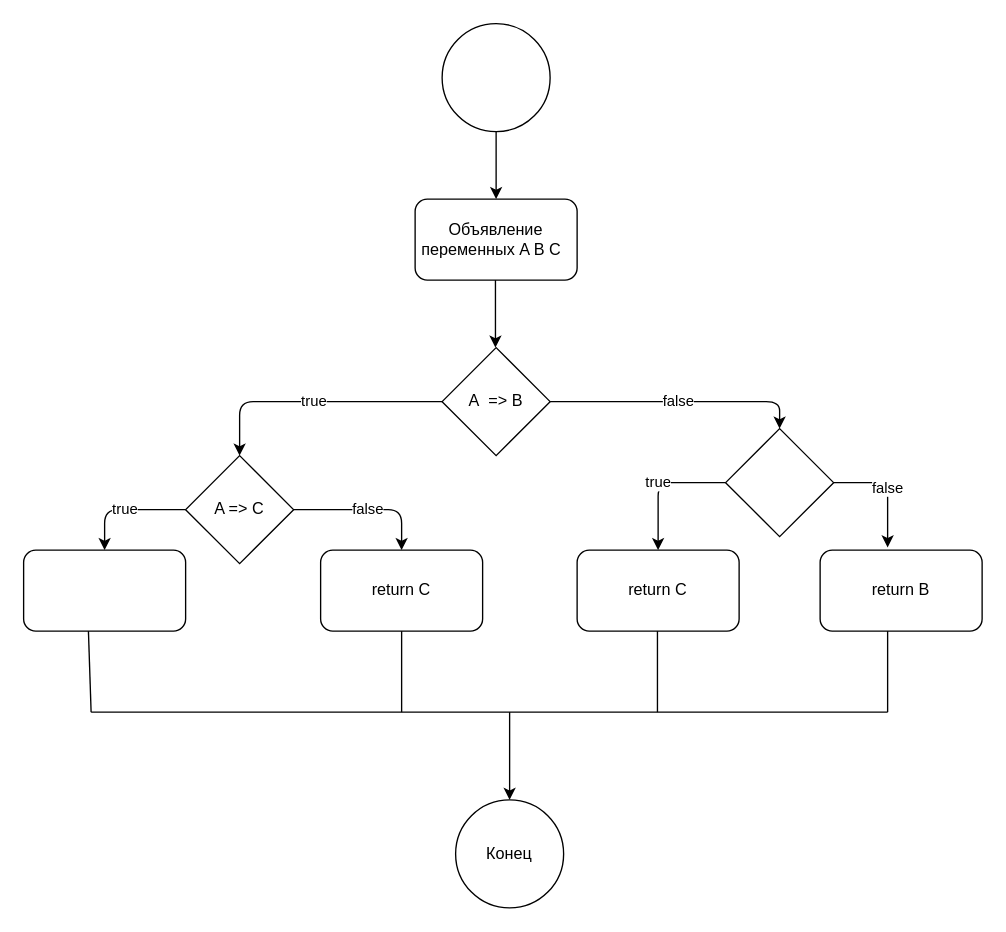
The diagram is 1006 pixels wide and 932 high, and some of its shapes have lost their labels. Here are the shapes that lost their labels. From the top down, the centre of each, then its label:
At point (495, 77): "начало".
At point (779, 482): "C => B".
At point (104, 590): "return A".
